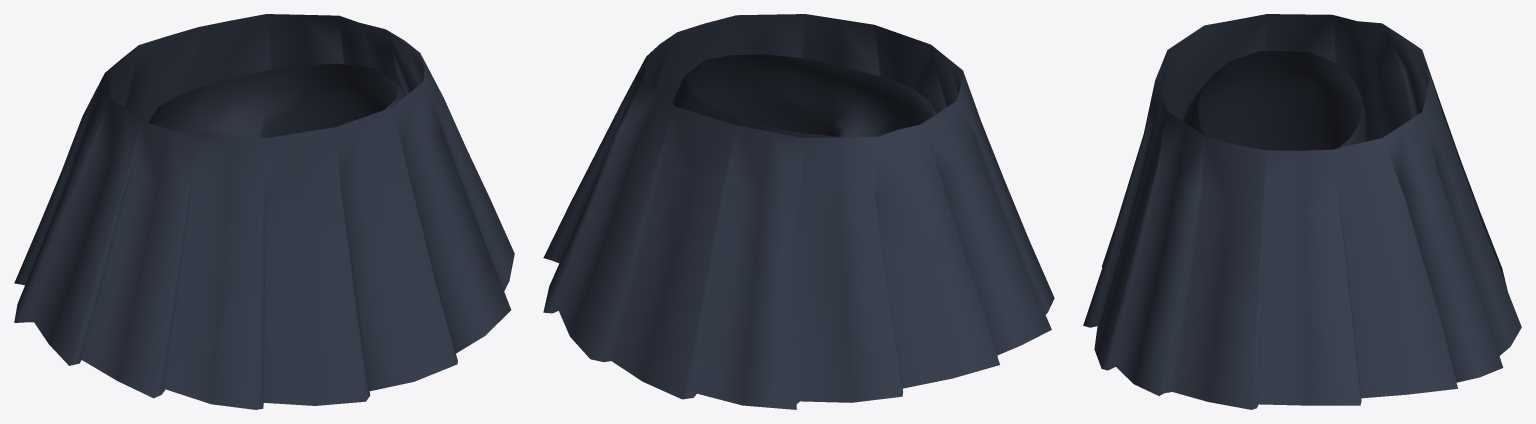
Rendered from sailor-girl-skirt.glb.
3 renders of one model, left to right at view 1: azimuth 30°, elevation 25°; view 2: azimuth 150°, elevation 25°; view 3: azimuth 270°, elevation 25°, orthographic.
Visible parts, largest first — view 1: Sailor_skirt; view 2: Sailor_skirt; view 3: Sailor_skirt.
Part boxes in pixels (x1,y1,x2,y2): Sailor_skirt: (14, 14, 514, 409); Sailor_skirt: (543, 14, 1054, 409); Sailor_skirt: (1083, 14, 1521, 409).
Bounding box in the file's own units: 1.17 × 0.6102 × 0.9799.
